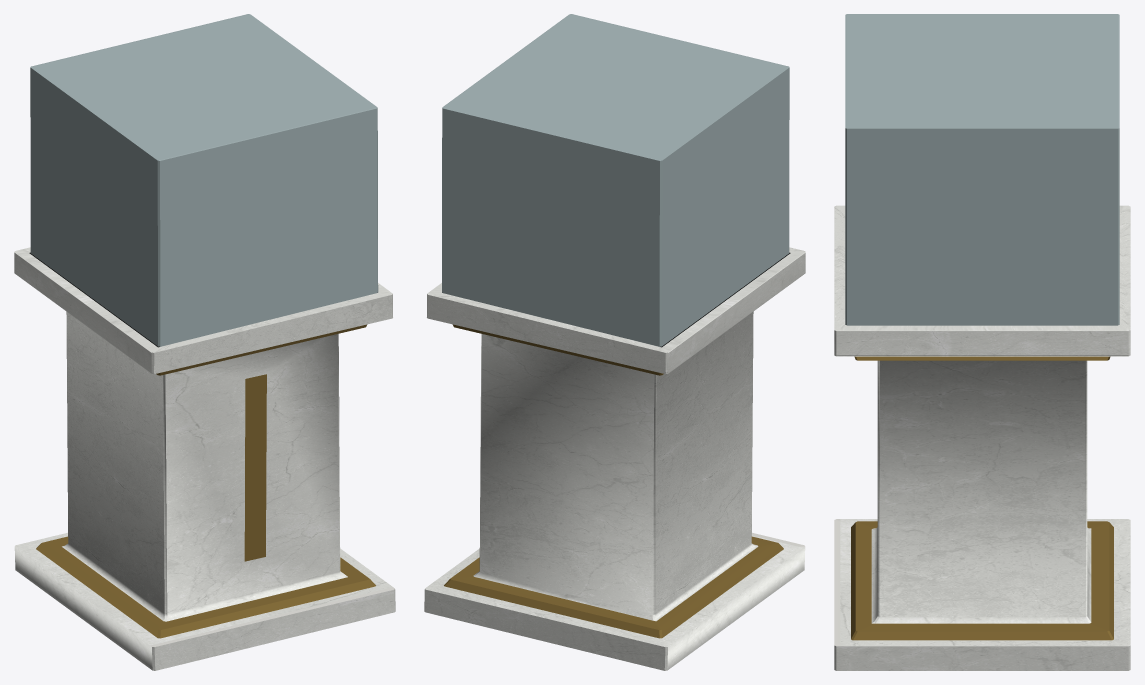
Rendered from Pedestal2.fbx.
The picture shows the model from 3 angles, left to right: view 1: azimuth 30°, elevation 25°; view 2: azimuth 150°, elevation 25°; view 3: azimuth 270°, elevation 25°; orthographic projection. The views are drawn at different scales.
Parts seen in each view (by area): view 1: MuseumWhole.031; view 2: MuseumWhole.031; view 3: MuseumWhole.031.
Boxes of the visible parts, left/top/right/bottom form: MuseumWhole.031: left=14, top=14, right=395, bottom=670; MuseumWhole.031: left=424, top=14, right=805, bottom=670; MuseumWhole.031: left=834, top=14, right=1130, bottom=670.
Size of the model in its own units: 72.24 by 142 by 71.29.
